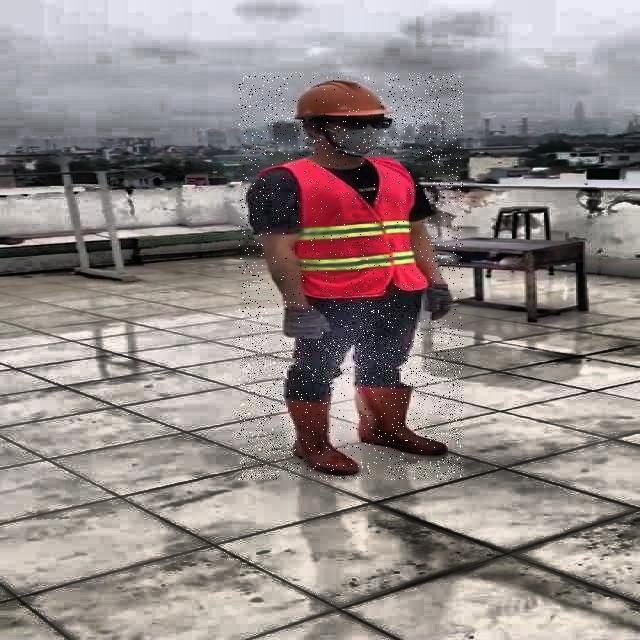safety_helmet: (288, 78, 388, 121)
safety_jacket: (264, 156, 428, 299)
